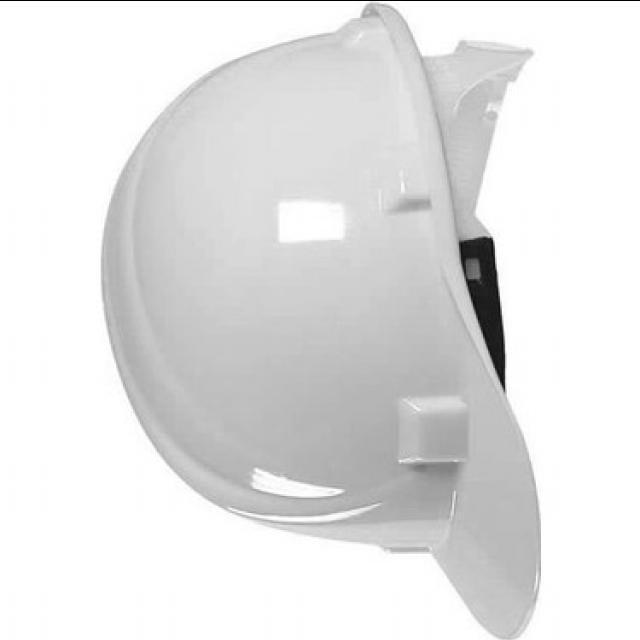safety_helmet: (101, 0, 544, 640)
